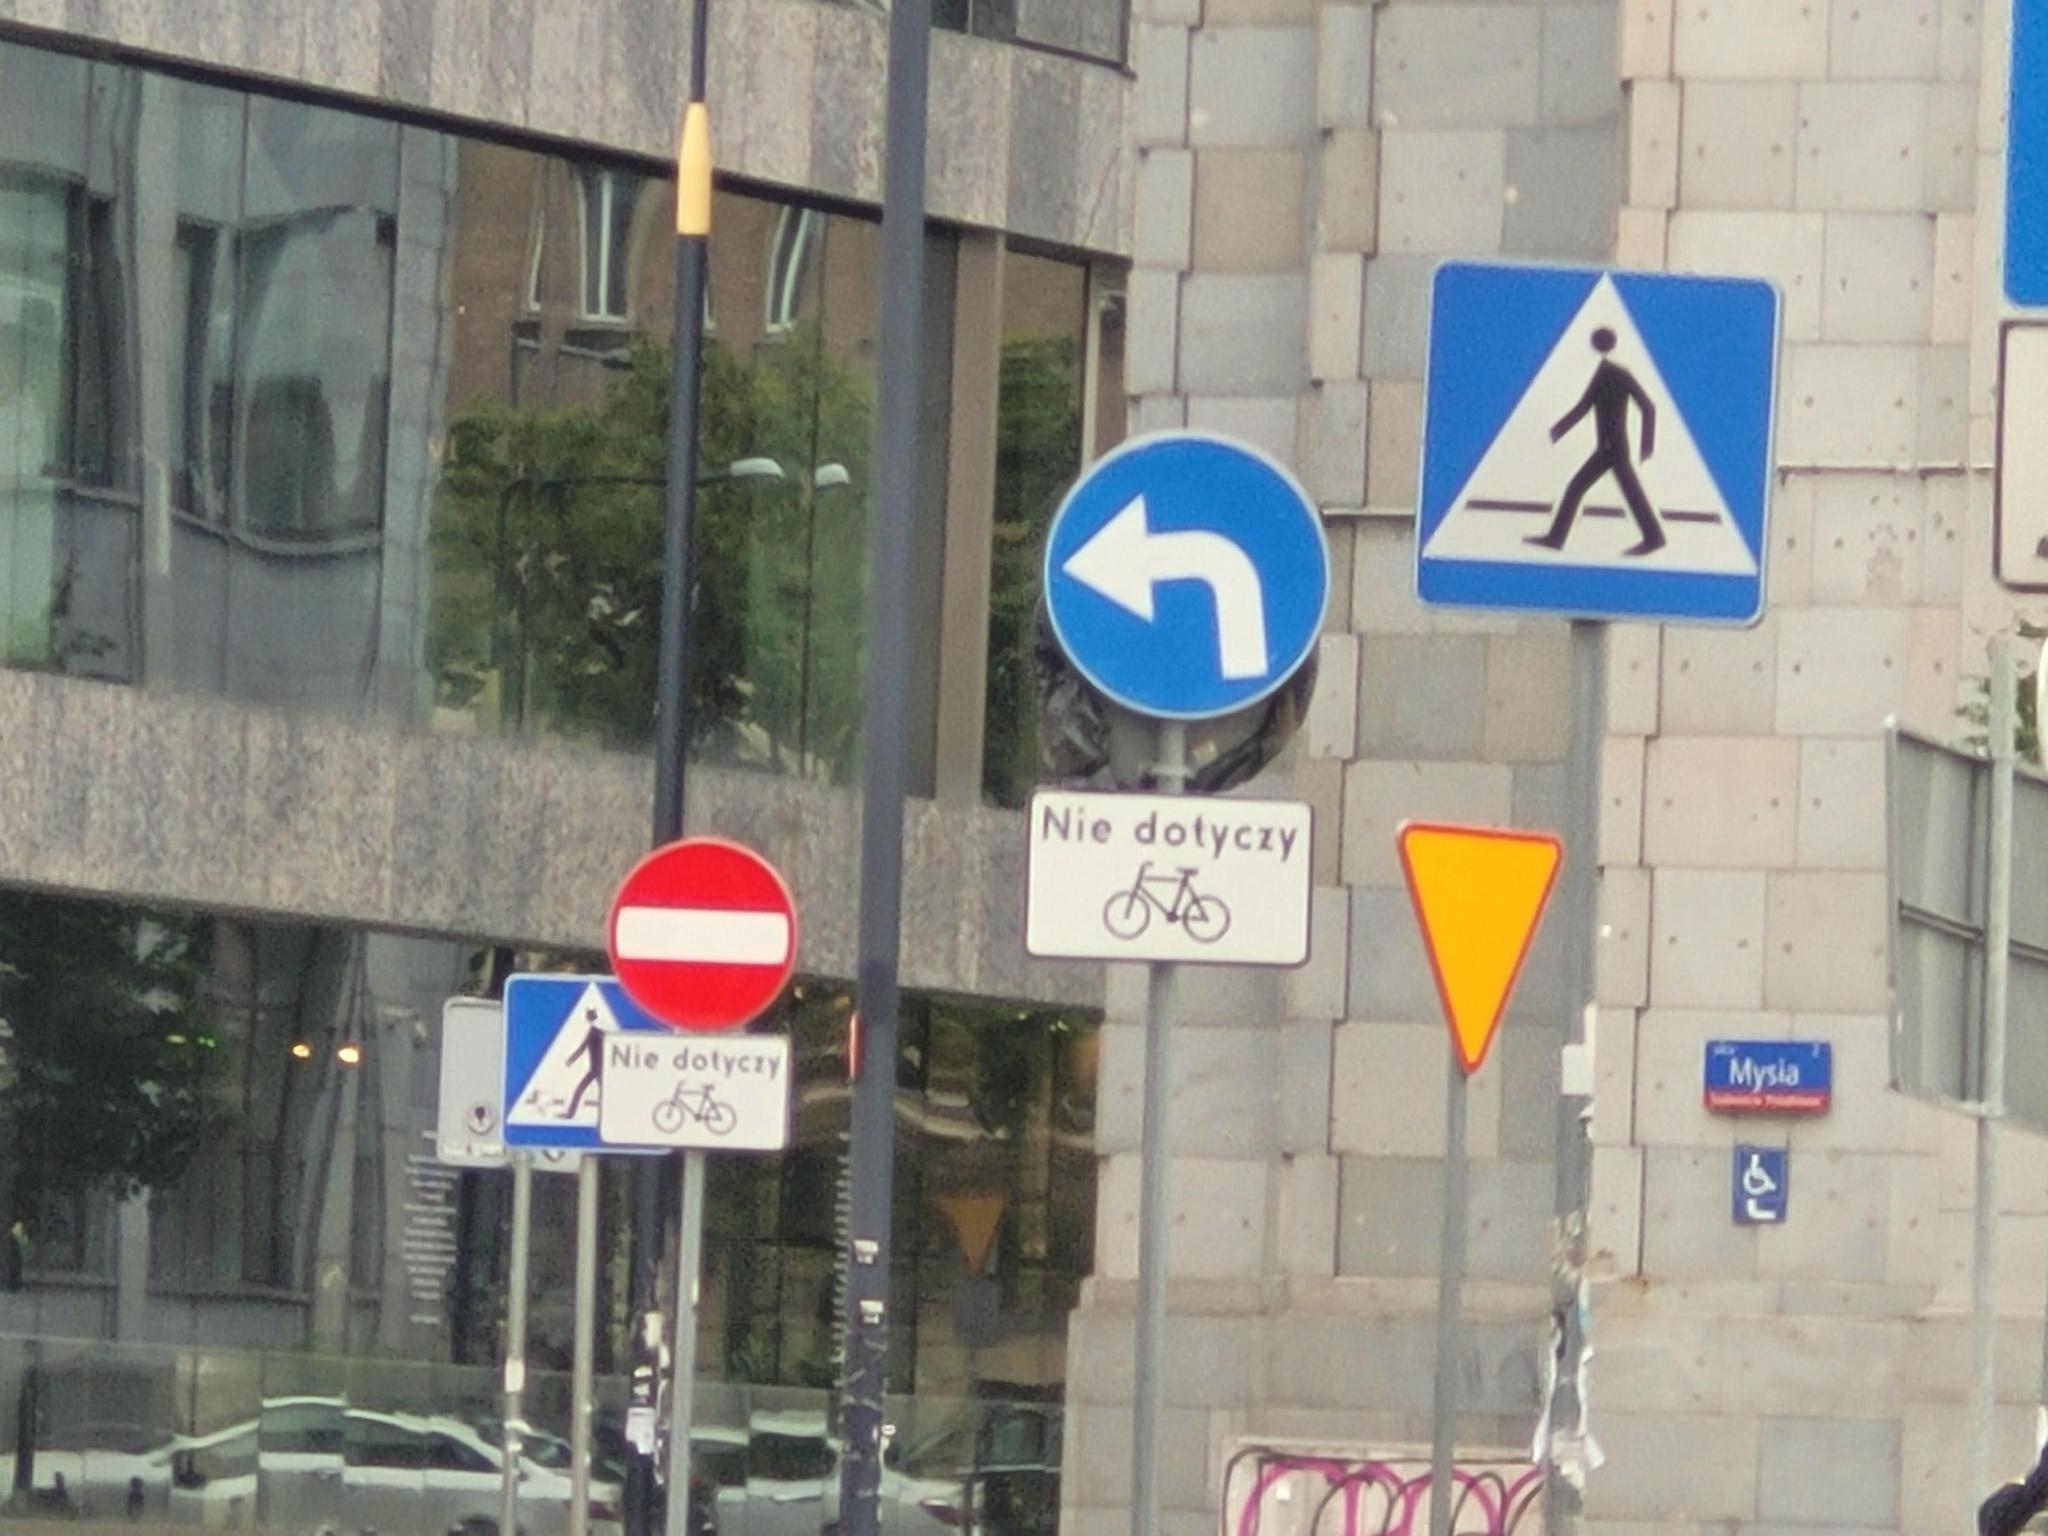information: (1424, 261, 1764, 620), (500, 973, 676, 1149)
mandatory: (1042, 431, 1334, 721)
other: (1026, 799, 1309, 958), (605, 1042, 784, 1141)
prohibitory: (605, 834, 798, 1034)
warning: (1393, 818, 1564, 1078)
